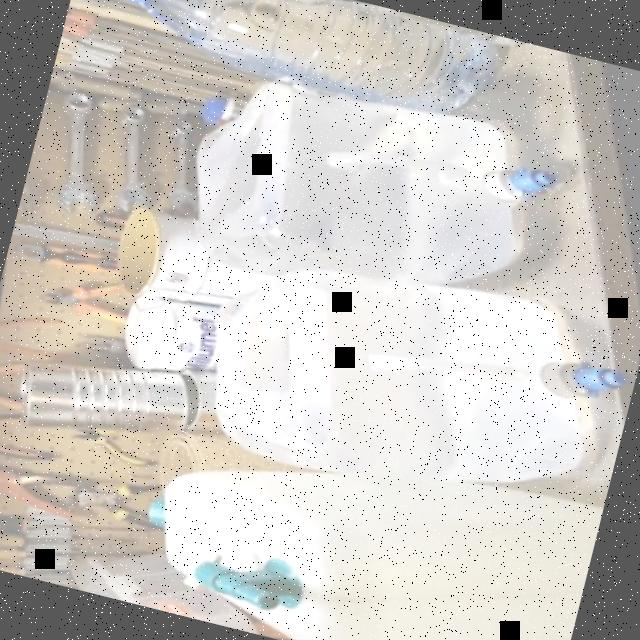chemical_plastic_gallon: (169, 30, 593, 360), (126, 392, 603, 640), (88, 0, 539, 173)
